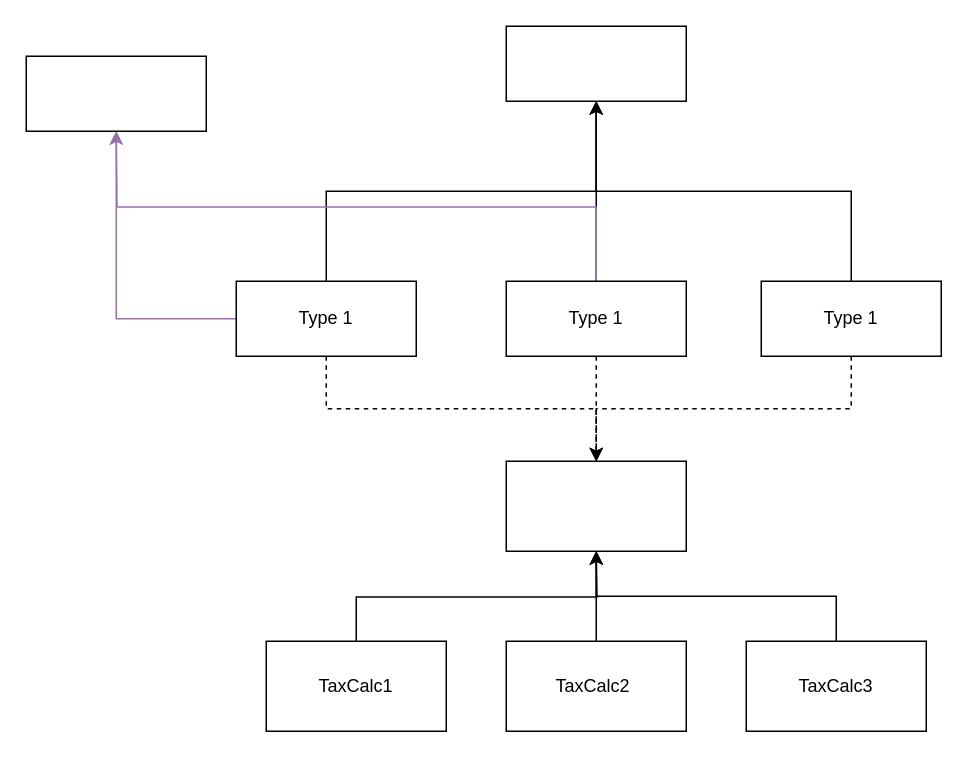
Some shapes in this 968 by 758 pixel diagram are drawn without their labels. The shapes that lost their labels are listed below. From the top down, each one's centre as x and y in pixels, then its label:
the point at 595,63: Employee
the point at 115,93: ITaxableEmployee
the point at 595,505: ITaxCalculation
